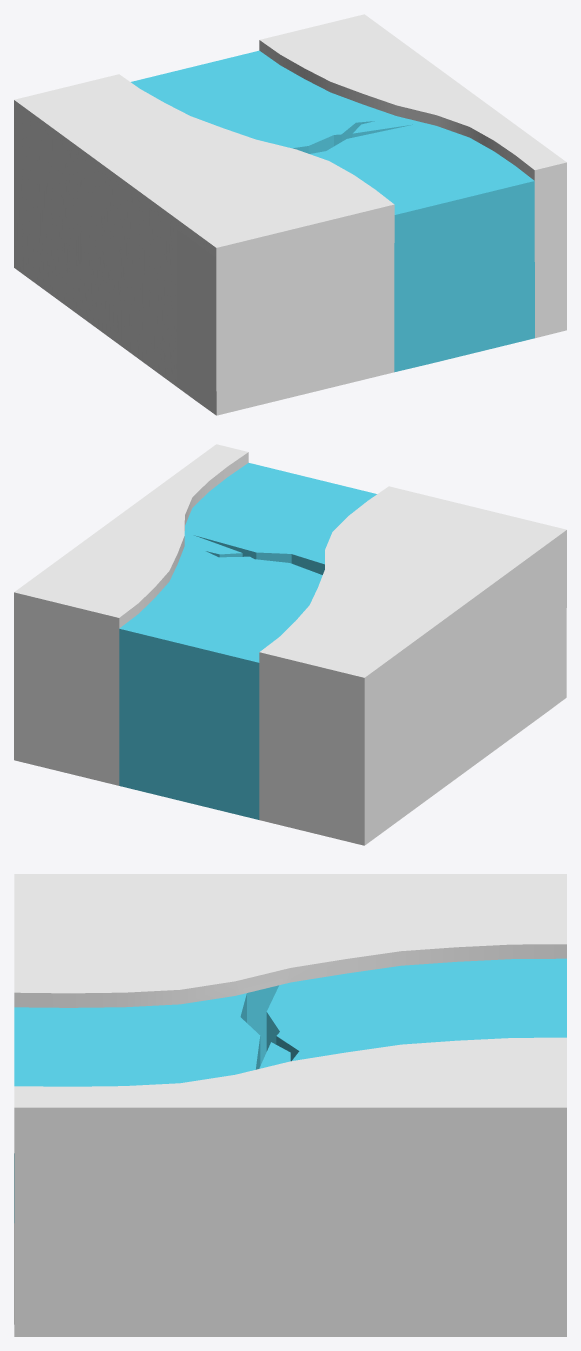
The model's file is sakeme atari3.fbx.
3 views of the same model, one above another, from view 1: azimuth 30°, elevation 25°; view 2: azimuth 150°, elevation 25°; view 3: azimuth 270°, elevation 25° (orthographic). The views are drawn at different scales.
Visible parts, largest first — view 1: pCube2; view 2: pCube2; view 3: pCube2.
Boxes of the visible parts, left/top/right/bottom form: pCube2: left=14, top=14, right=566, bottom=415; pCube2: left=14, top=444, right=566, bottom=845; pCube2: left=14, top=874, right=566, bottom=1336.
Size of the model in its own units: 24.03 by 11 by 24.05.
1 material, 1 textured.
